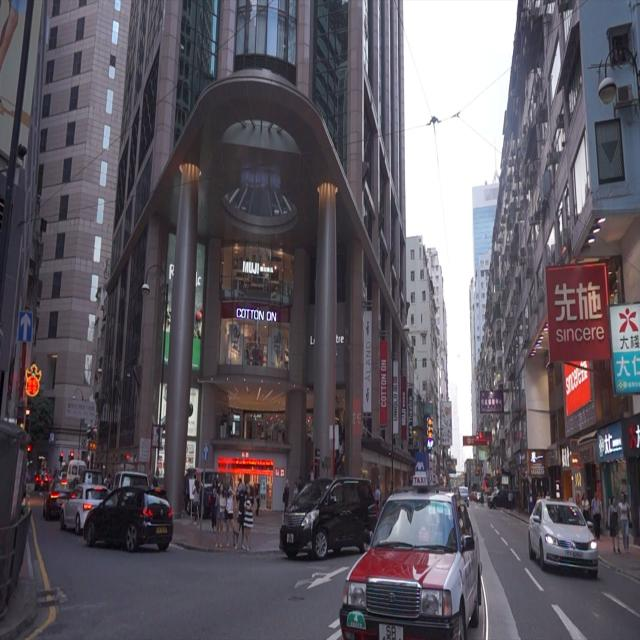body: (386, 502, 450, 549), (233, 480, 250, 551), (615, 490, 633, 554), (218, 320, 240, 366), (607, 495, 622, 556), (242, 483, 255, 552), (214, 482, 227, 548), (225, 482, 237, 548), (590, 489, 603, 543), (207, 476, 219, 534), (180, 466, 190, 517), (299, 486, 327, 502), (192, 479, 200, 526), (581, 492, 591, 526), (102, 471, 111, 504), (254, 481, 262, 518), (374, 481, 381, 522), (282, 478, 290, 513), (297, 474, 304, 514), (535, 488, 542, 521), (314, 473, 331, 486), (21, 490, 30, 514), (526, 483, 534, 510), (540, 488, 546, 520), (253, 478, 258, 516), (306, 465, 314, 487), (507, 488, 514, 513), (39, 467, 49, 483), (292, 481, 299, 503), (228, 408, 233, 438), (516, 488, 521, 516), (226, 411, 231, 438), (154, 465, 159, 487), (52, 462, 58, 479), (545, 489, 552, 500), (86, 452, 90, 471), (480, 489, 484, 508), (60, 458, 66, 470), (238, 477, 243, 491), (192, 471, 197, 480), (483, 484, 487, 490)
